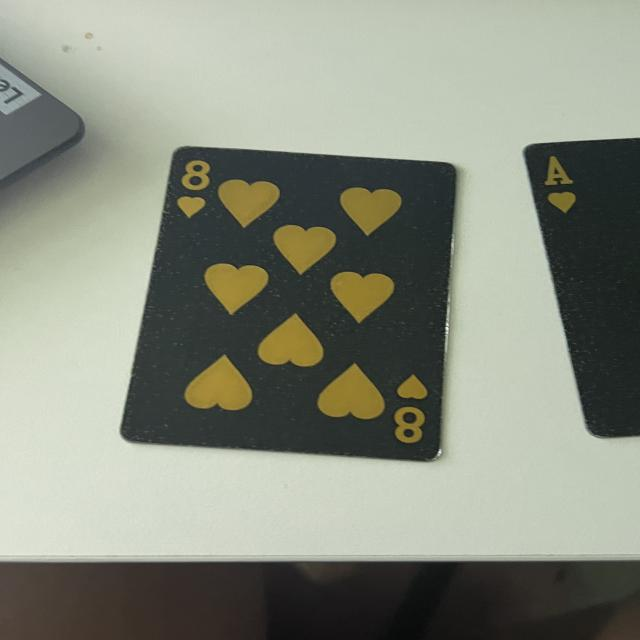8H: (387, 369, 437, 450), (174, 153, 212, 225)
AH: (538, 147, 585, 216)
